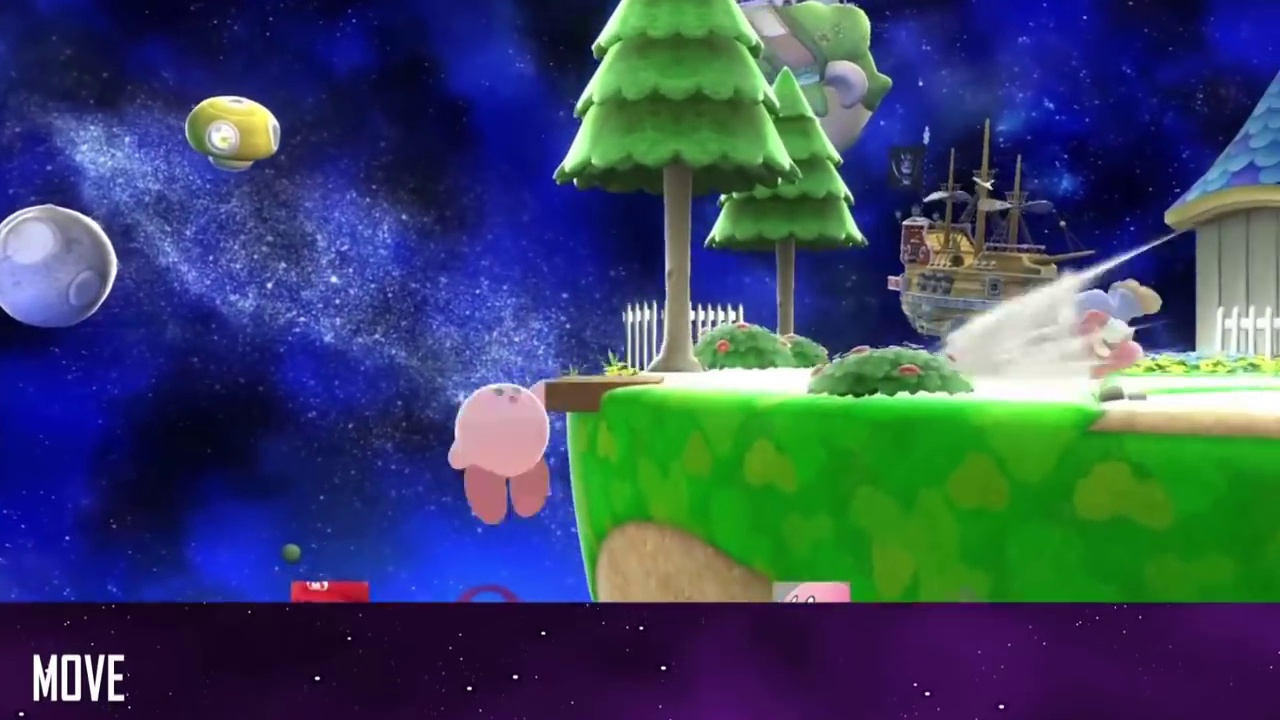Mario: (1058, 276, 1161, 377)
